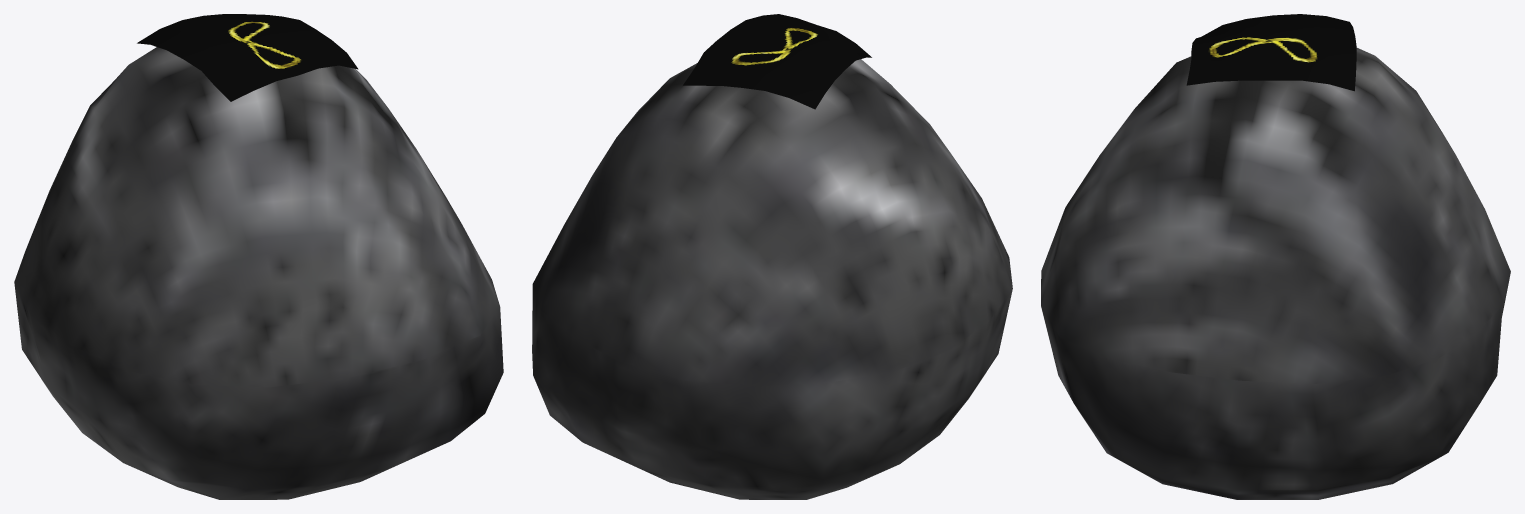
Rendered from trash_bag.fbx.
The picture shows the model from 3 angles, left to right: view 1: azimuth 30°, elevation 25°; view 2: azimuth 150°, elevation 25°; view 3: azimuth 270°, elevation 25°; orthographic projection. The views are drawn at different scales.
Visible parts, largest first — view 1: Bag, Tie; view 2: Bag, Tie; view 3: Bag, Tie.
Boxes of the visible parts, x1,y1,x2,y2 form: Bag: [14, 47, 503, 499]; Tie: [137, 14, 358, 101]; Bag: [532, 59, 1012, 499]; Tie: [683, 14, 871, 109]; Bag: [1041, 48, 1510, 499]; Tie: [1186, 14, 1356, 91].
Bounding box in the file's own units: 56.18 × 56.59 × 57.53.
